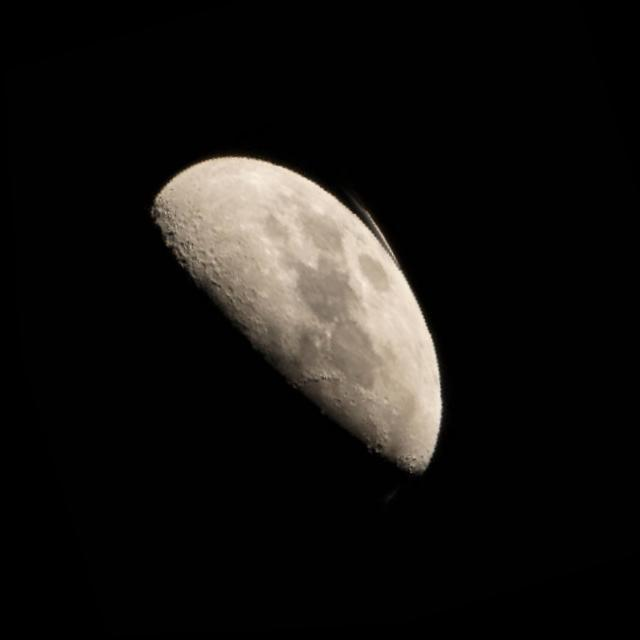moon: (64, 88, 496, 582)
